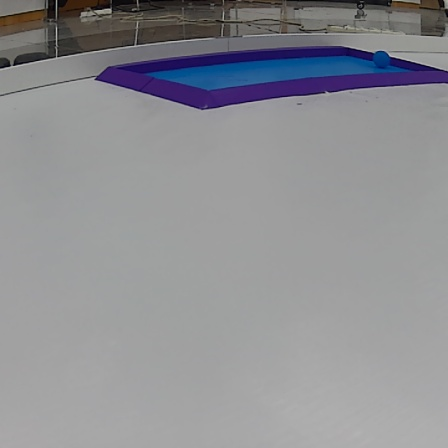blue: (371, 47, 390, 70)
blue_aim: (92, 44, 448, 105)
